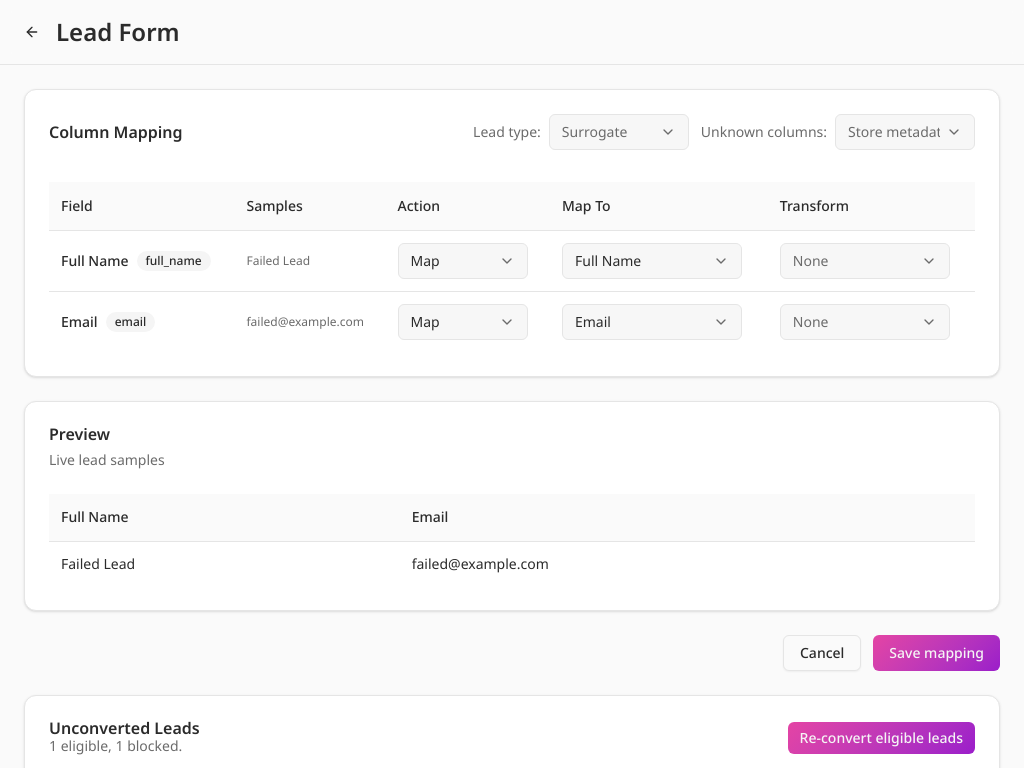
Test: MetaFormMappingPage › shows journey timing as a selectable mapping option
The image size is (1024, 768).
Expected: the dropdown named "action for full_name" shows "Map", [398,242,528,278]
Expected: the dropdown named "action for full_name" does not show "map", [398,242,528,278]
Press the mouse on the dropdown named "map full_name to field": (652, 260) [562,242,742,278]
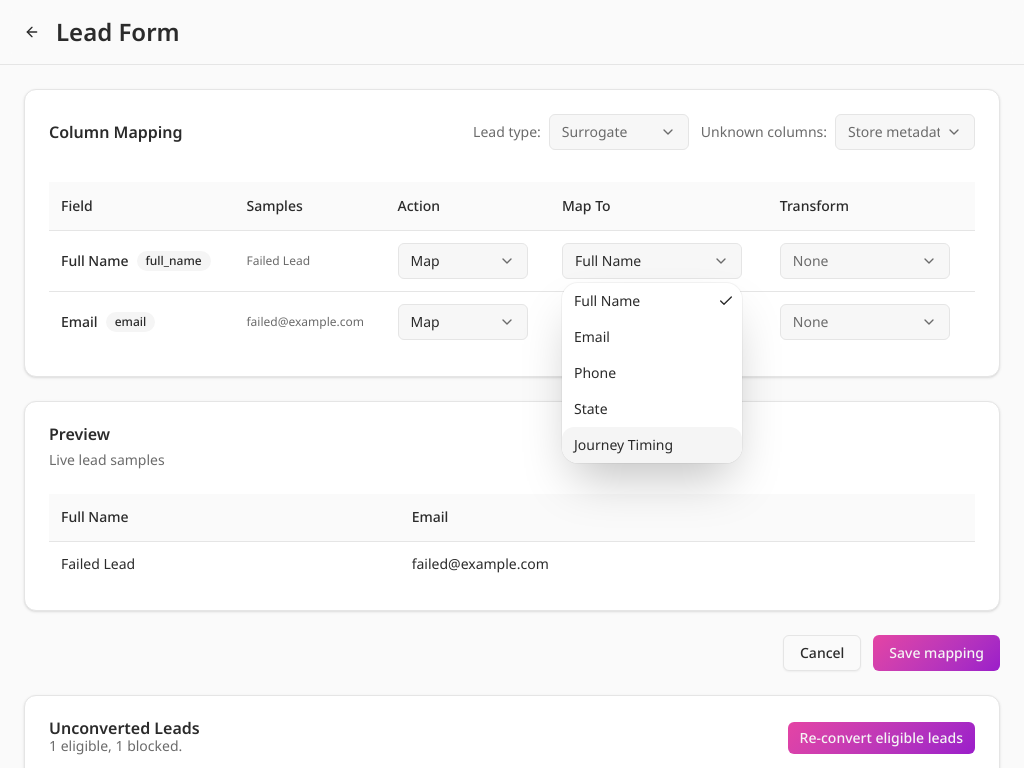
Now the option "Journey Timing" is shown
Click the option "Journey Timing": (652, 445) [562,427,742,463]
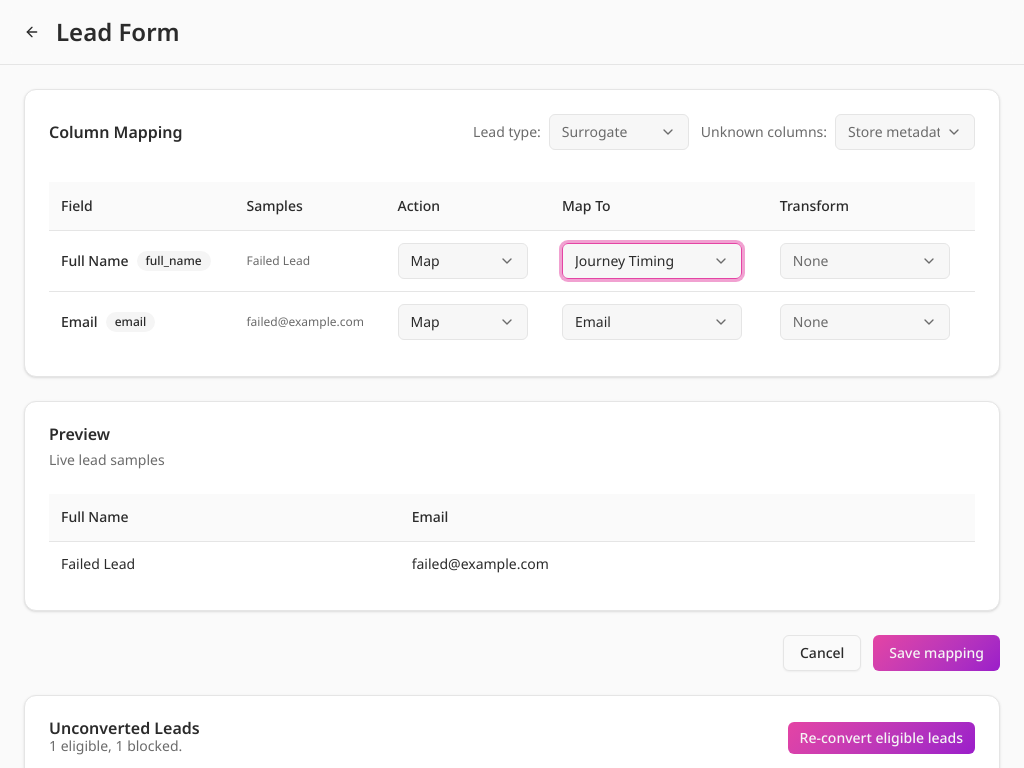
Now the text "Journey Timing" is shown, box [575,250,674,270]
